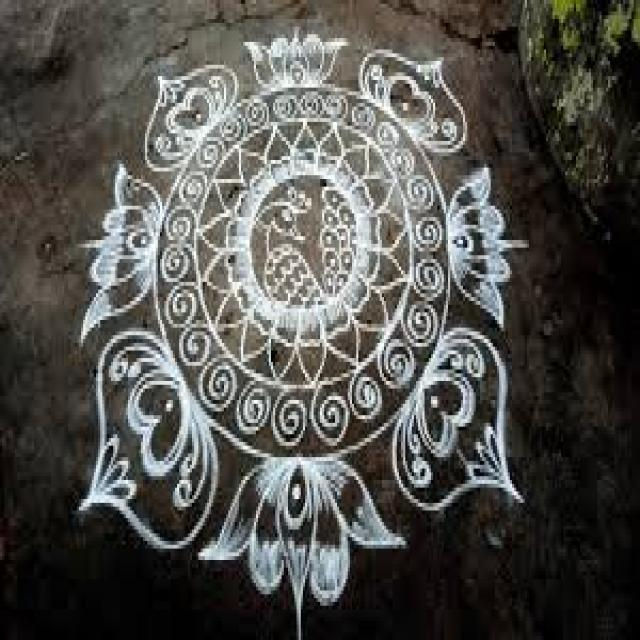rangoli: (78, 30, 514, 640)
